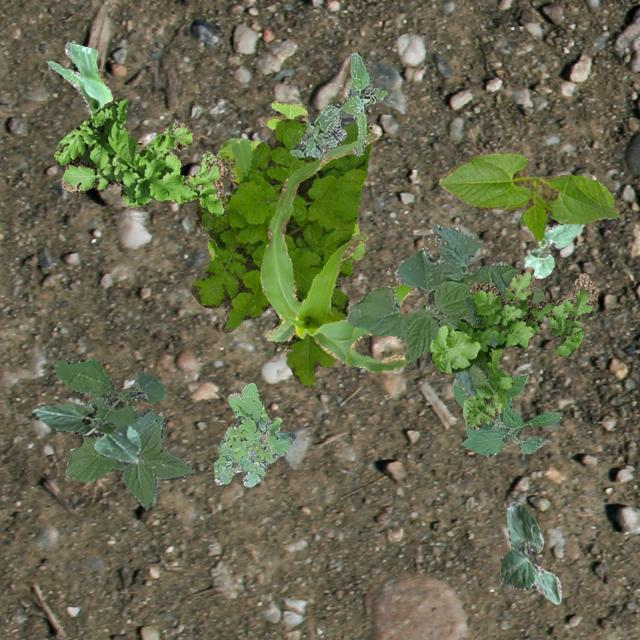crop: (258, 132, 414, 372), (344, 224, 544, 396), (438, 152, 618, 240), (452, 374, 560, 456), (30, 402, 140, 462), (498, 500, 560, 602), (44, 41, 112, 114), (524, 222, 582, 278)
weed: (190, 117, 370, 386), (428, 266, 598, 428), (206, 100, 364, 260), (53, 358, 194, 508), (52, 98, 226, 216), (288, 50, 388, 156), (212, 382, 294, 486)
